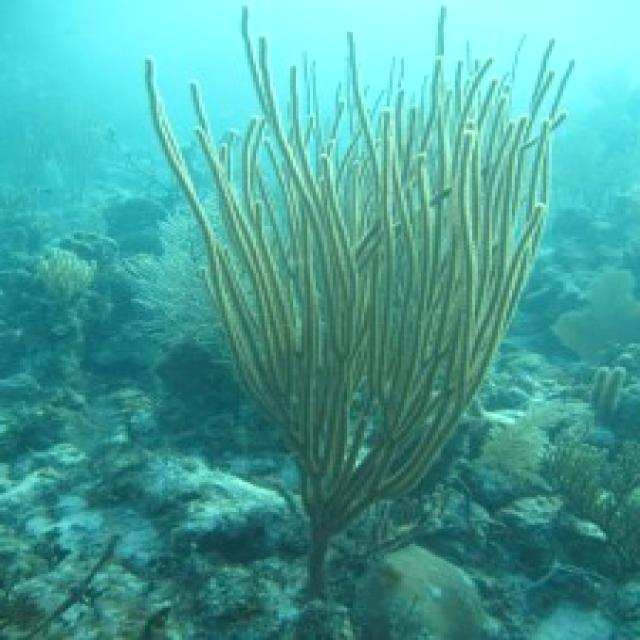Coral: (140, 5, 582, 609)
